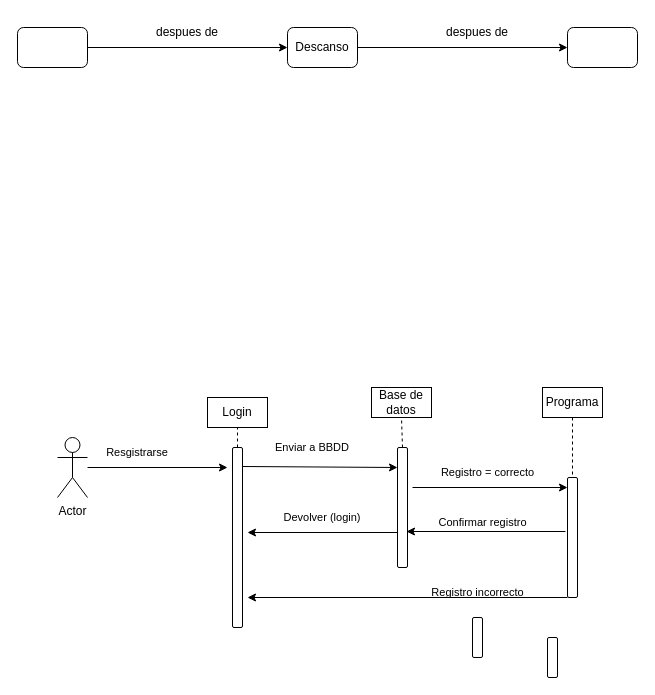
Image size: 655x695. Some labels were removed from this diagram. The shapes that lost their labels are listed below. From the top down, each one's centre as x and y in pixels, then its label:
At [52,47]: "Inicio".
At [602,47]: "Final".
